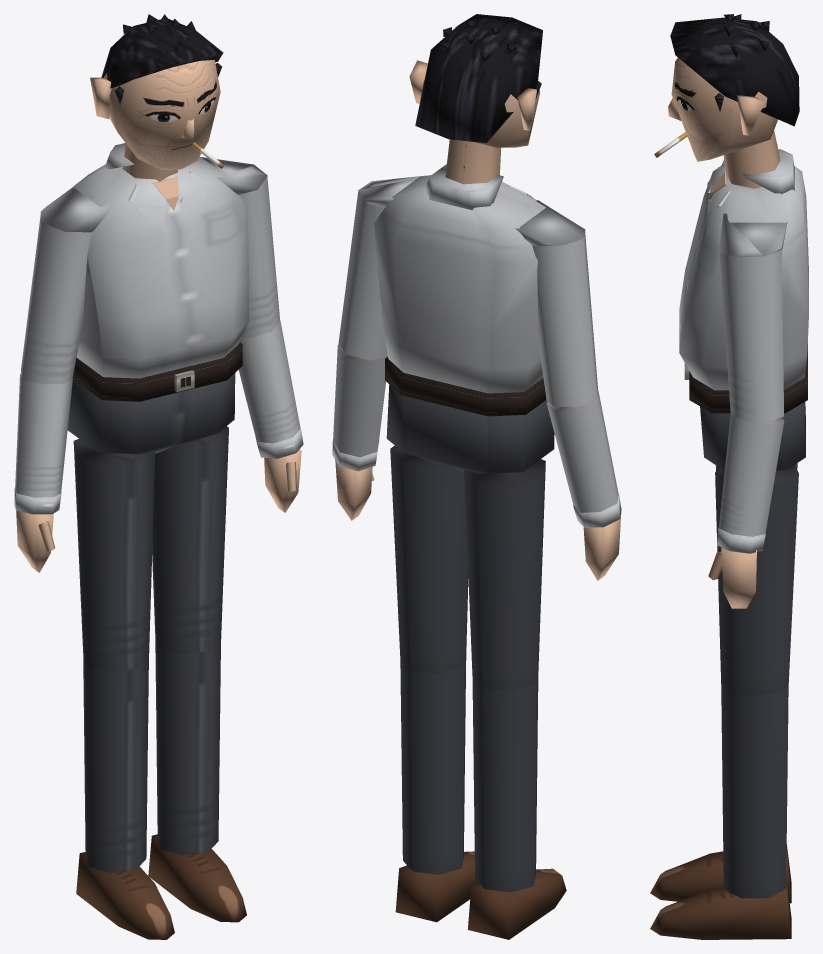
The model's file is viejo_retro.glb.
The picture shows the model from 3 angles, left to right: view 1: azimuth 30°, elevation 25°; view 2: azimuth 150°, elevation 25°; view 3: azimuth 270°, elevation 25°; orthographic projection.
Parts seen in each view (by area): view 1: personaje; view 2: personaje; view 3: personaje.
Boxes of the visible parts, box(x1,y1,x2,y2) form: personaje: box(14, 14, 303, 939); personaje: box(332, 14, 621, 939); personaje: box(650, 14, 808, 939).
Size of the model in its own units: 0.5586 by 1.66 by 0.2686.
1 material, 1 textured.
